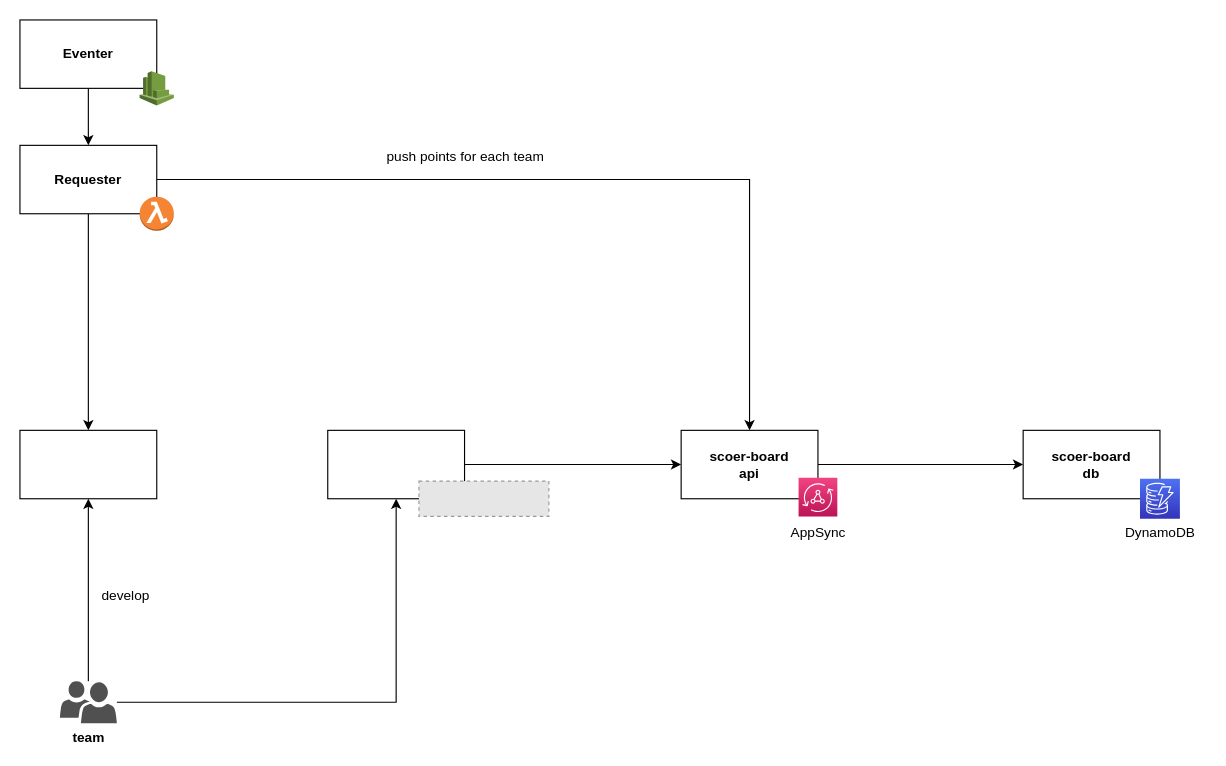
This 1226x766 diagram has some shape labels left out. Grey dashed boxes stand in for pictures. The centre of each missing label's shape, as x and y in pixels:
API (need to build): pixel 88 464
scoer-board web: pixel 396 464
